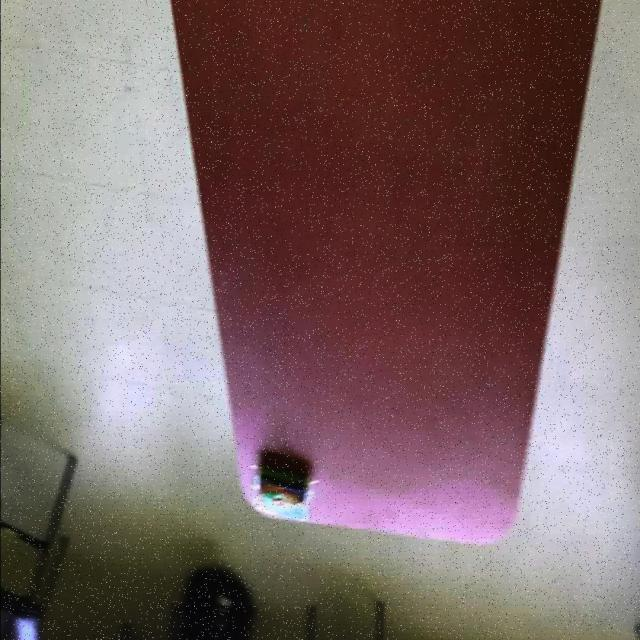Sponge: (256, 464, 319, 504), (258, 464, 310, 504)
